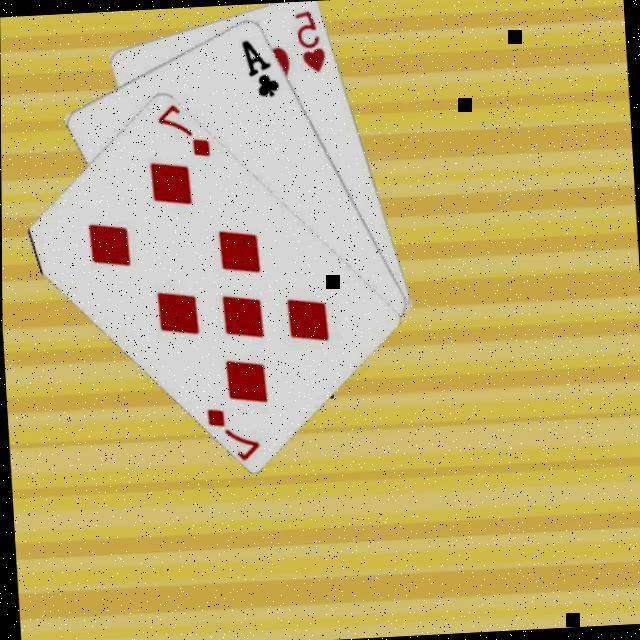5H: (289, 4, 329, 74)
7D: (152, 99, 213, 160), (201, 400, 262, 460)
AC: (236, 33, 282, 99)
